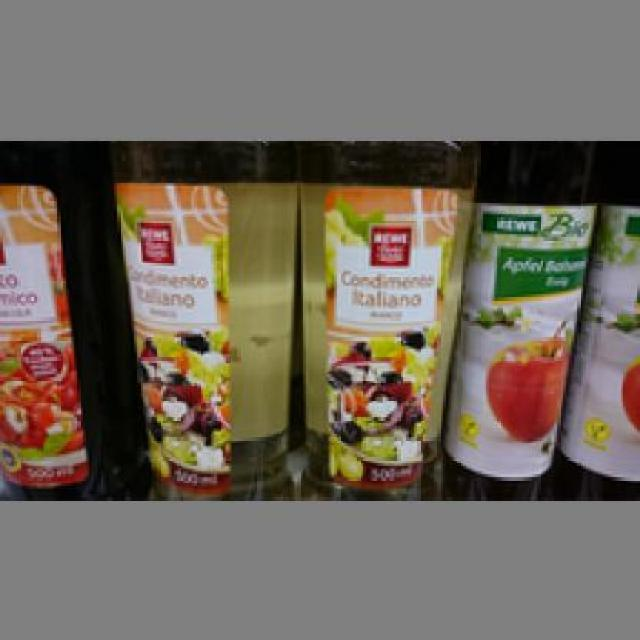Vinegar: (286, 140, 460, 494), (114, 159, 294, 492), (440, 142, 591, 492), (0, 152, 126, 498)
